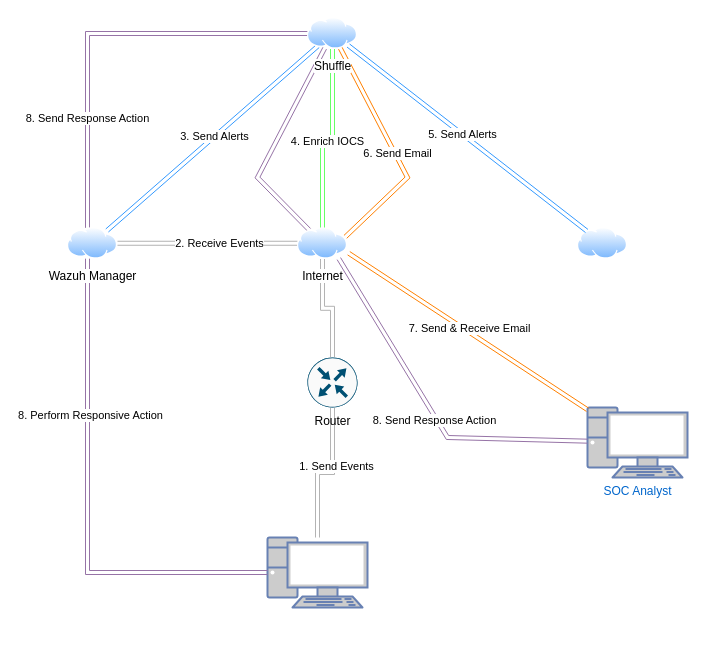
The diagram is 705 pixels wide and 660 high, and some of its shapes have lost their labels. The shapes that lost their labels are listed below. From the top down, each one's centre as x and y in pixels, then its label:
At (602,242): "TheHive".
At (317,572): "Winows 10 Client Wazuh Agent".
